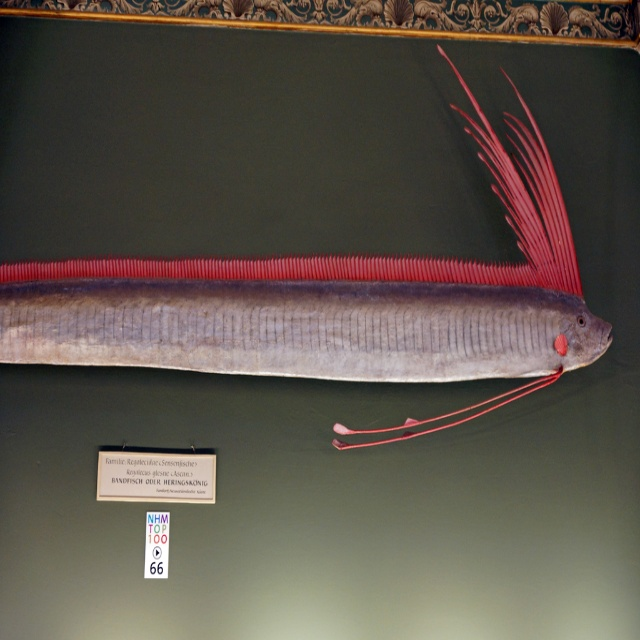Fish: (0, 142, 640, 433)
